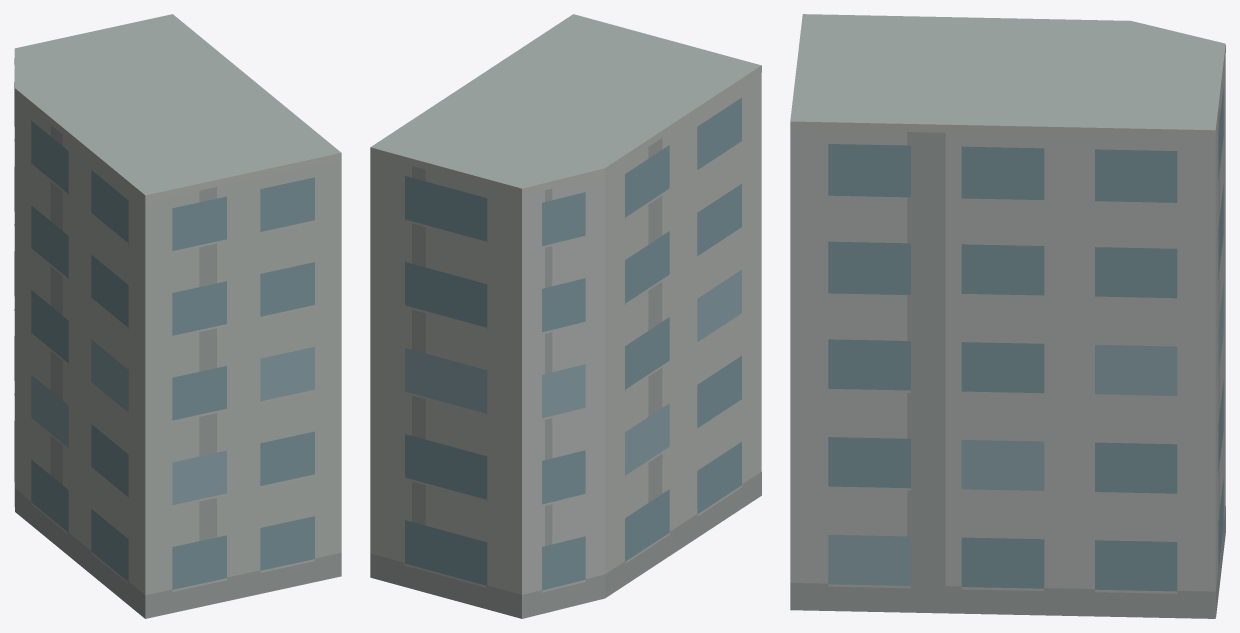
File: survey-upis-32991235.glb
3 views of the same model, side by side, from view 1: azimuth 30°, elevation 25°; view 2: azimuth 150°, elevation 25°; view 3: azimuth 270°, elevation 25° (orthographic). The views are drawn at different scales.
Visible parts, largest first — view 1: survey-upis-32991235.tmp; view 2: survey-upis-32991235.tmp; view 3: survey-upis-32991235.tmp.
Part boxes in pixels (bbox=[...]): survey-upis-32991235.tmp: bbox=[14, 14, 341, 618]; survey-upis-32991235.tmp: bbox=[370, 14, 761, 618]; survey-upis-32991235.tmp: bbox=[790, 14, 1225, 618].
Size of the model in its own units: 7.46 by 14.6 by 11.81.
